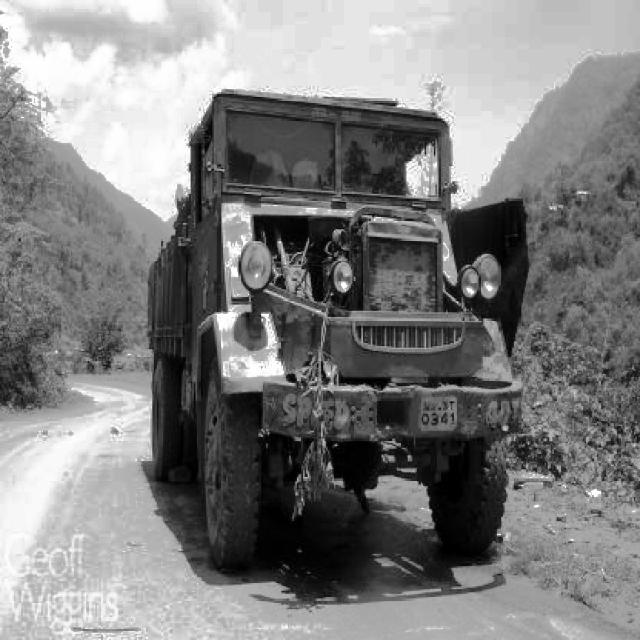HCV: (133, 154, 512, 575)
